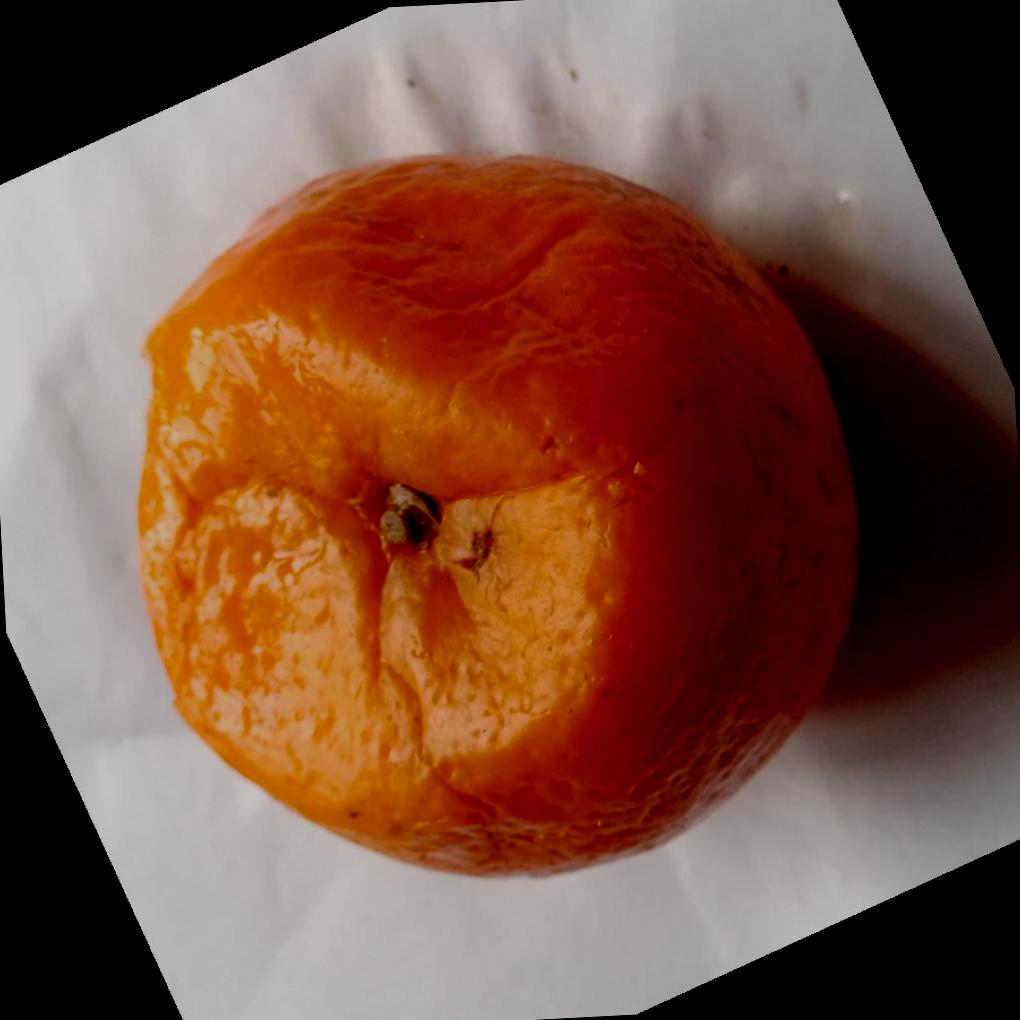FreshOrange: (136, 151, 867, 879)
